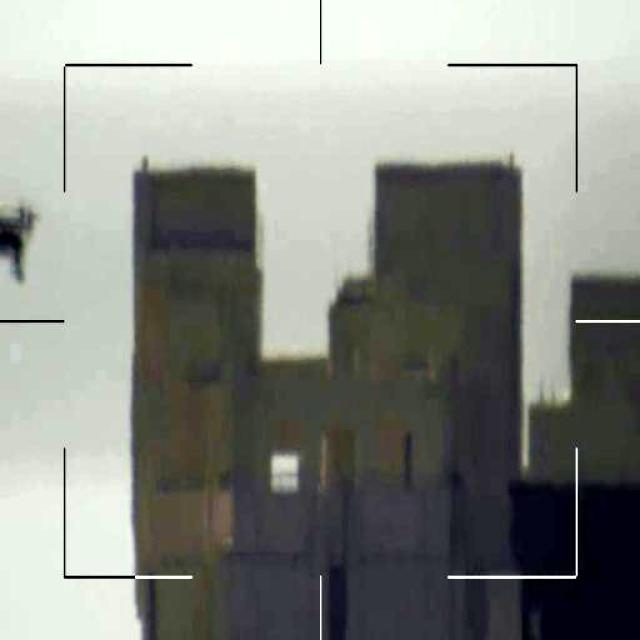bird: (0, 199, 42, 292)
